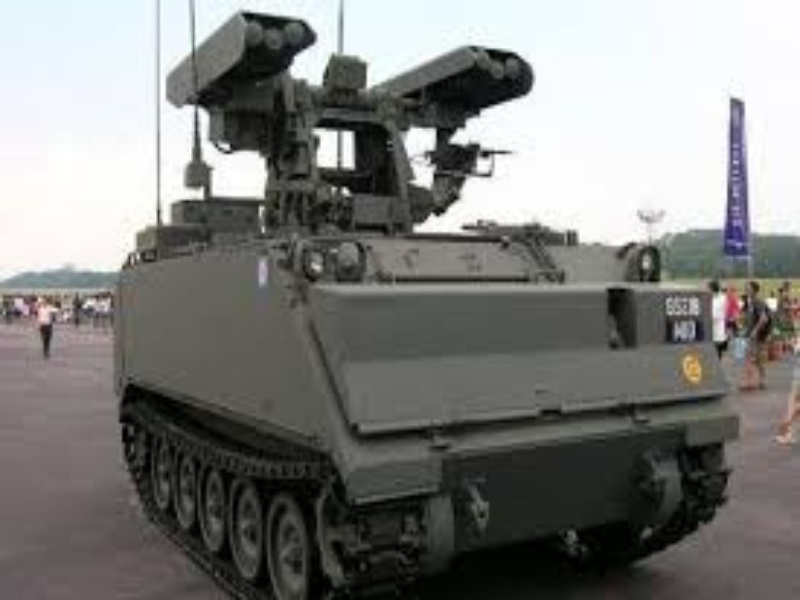tank: (111, 9, 744, 600)
